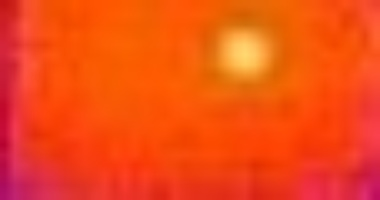Hotspot: (213, 25, 273, 80)
